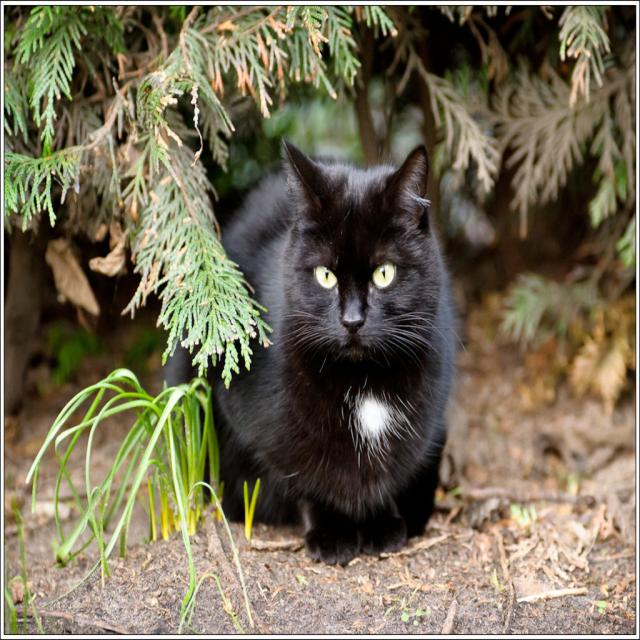Cat: (164, 134, 475, 566)
